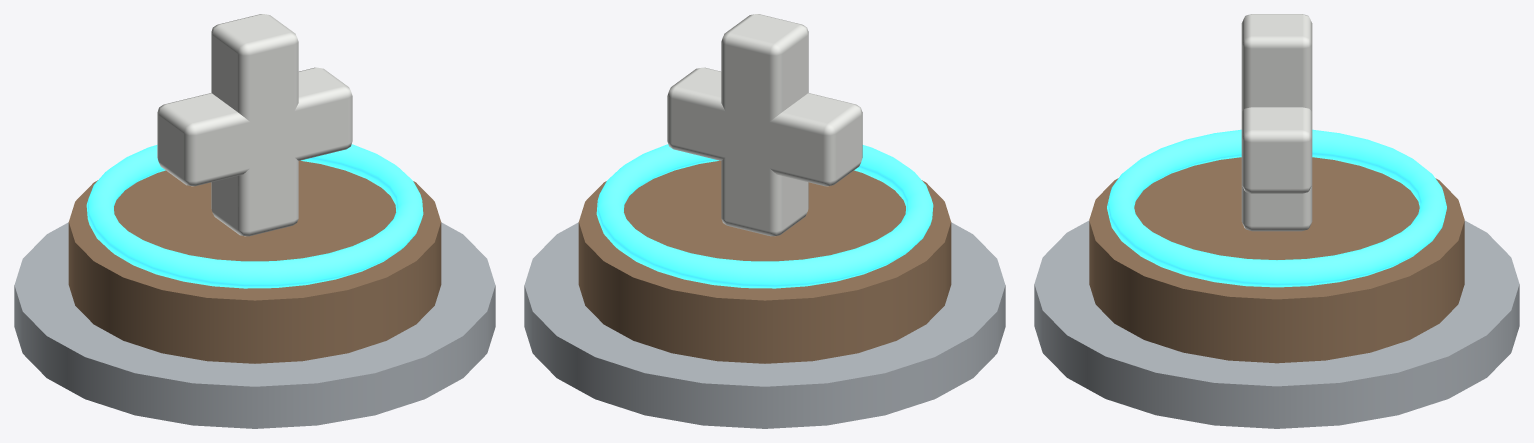
File: arena-shooter-map-kit-mega-health-pedestal-c8e8ac88__23125.glb
The picture shows the model from 3 angles, left to right: view 1: azimuth 30°, elevation 25°; view 2: azimuth 150°, elevation 25°; view 3: azimuth 270°, elevation 25°; orthographic projection.
Visible parts, largest first — view 1: mega-health-pedestal; view 2: mega-health-pedestal; view 3: mega-health-pedestal.
Boxes of the visible parts, left/top/right/bottom form: mega-health-pedestal: left=14, top=14, right=495, bottom=428; mega-health-pedestal: left=524, top=14, right=1005, bottom=428; mega-health-pedestal: left=1034, top=14, right=1519, bottom=428.
Size of the model in its own units: 1.24 by 0.85 by 1.24.
